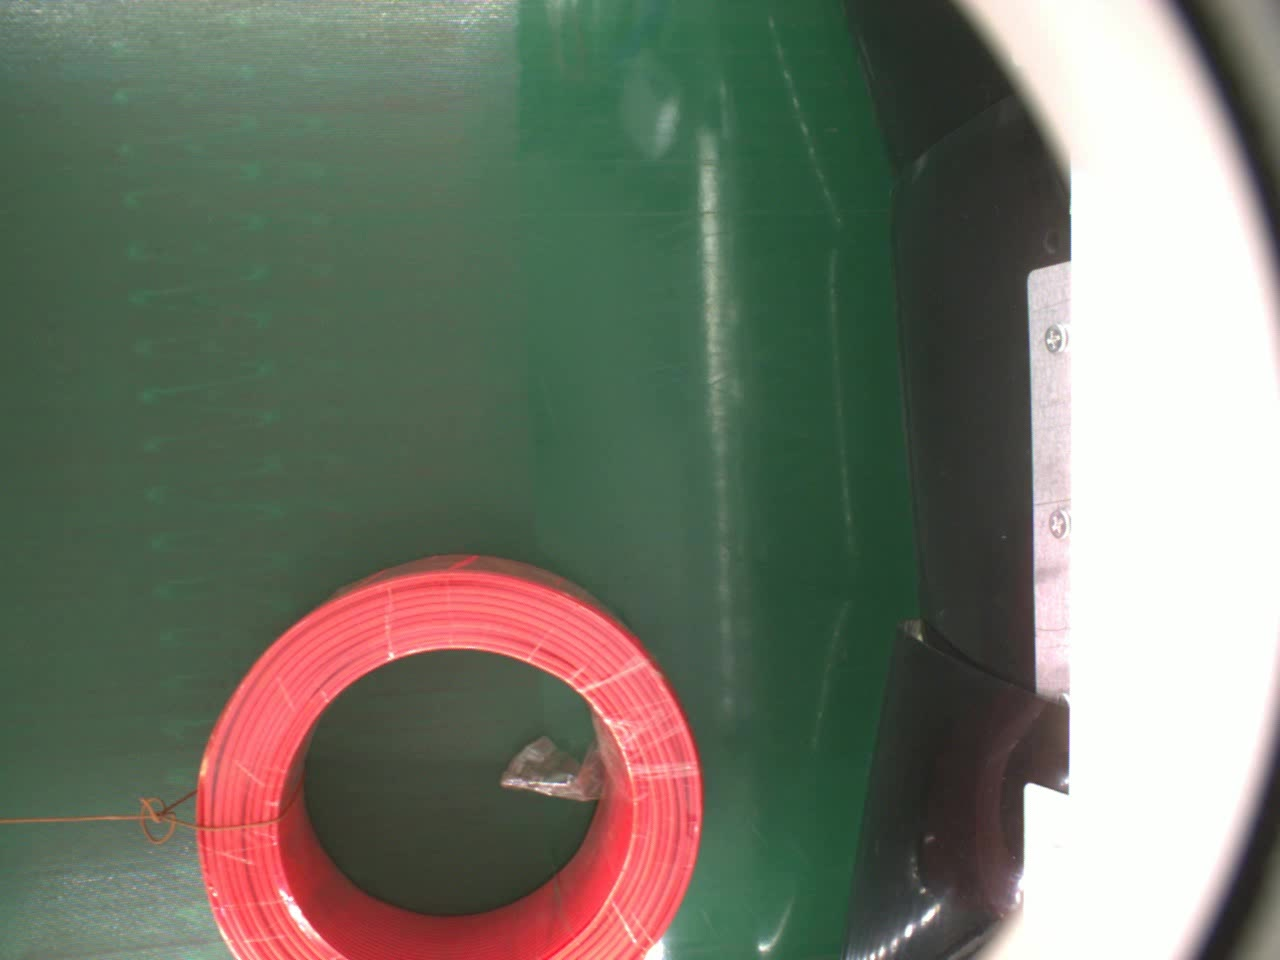red: (197, 551, 709, 960)
